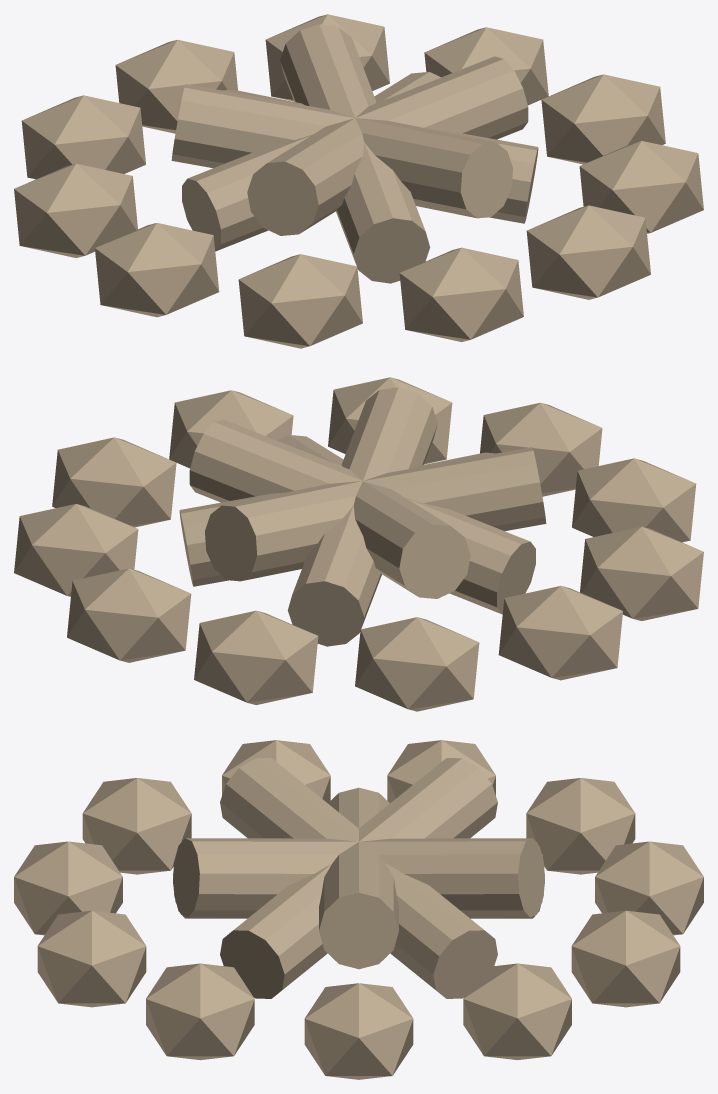
Rendered from campfire-0-lod0.glb.
3 renders of one model, top to bottom at view 1: azimuth 30°, elevation 25°; view 2: azimuth 150°, elevation 25°; view 3: azimuth 270°, elevation 25°, orthographic. The views are drawn at different scales.
Parts seen in each view (by area): view 1: Charred log.004, Charred log, Charred log.003, Charred log.001, Charred log.002, Angular hearth stone.004, Angular hearth stone.002, Angular hearth stone.003, Angular hearth stone.005, Angular hearth stone.006, Angular hearth stone, Angular hearth stone.001 (+4 smaller); view 2: Charred log.001, Charred log, Charred log.002, Charred log.004, Charred log.003, Angular hearth stone.007, Angular hearth stone.009, Angular hearth stone.008, Angular hearth stone.006, Angular hearth stone.005, Angular hearth stone, Angular hearth stone.010 (+4 smaller); view 3: Charred log.002, Charred log.003, Charred log.001, Charred log.004, Charred log, Angular hearth stone.002, Angular hearth stone.009, Angular hearth stone, Angular hearth stone.001, Angular hearth stone.010, Angular hearth stone.004, Angular hearth stone.007 (+4 smaller).
Part boxes in pixels (x1,y1,x2,y2): Charred log.004: (280,24,430,283); Charred log: (182,56,528,251); Charred log.003: (171,84,538,223); Charred log.001: (222,89,512,218); Charred log.002: (247,72,440,235); Angular hearth stone.004: (238,254,362,348); Angular hearth stone.002: (526,205,650,299); Angular hearth stone.003: (399,247,523,341); Angular hearth stone.005: (95,223,219,317); Angular hearth stone.006: (14,163,137,257); Angular hearth stone: (541,74,665,164); Angular hearth stone.001: (579,141,703,233); Charred log.001: (287,387,437,646); Charred log: (189,419,535,614); Charred log.002: (179,447,546,586); Charred log.004: (205,452,495,581); Charred log.003: (277,435,470,598); Angular hearth stone.007: (355,617,479,711); Angular hearth stone.009: (67,568,191,662); Angular hearth stone.008: (194,610,318,704); Angular hearth stone.006: (498,586,622,680); Angular hearth stone.005: (580,526,703,620); Angular hearth stone: (52,437,176,527); Angular hearth stone.010: (14,504,138,596); Charred log.002: (220,758,497,998); Charred log.003: (220,758,497,998); Charred log.001: (173,838,544,918); Charred log.004: (173,838,544,918); Charred log: (319,787,398,969); Angular hearth stone.002: (37,910,146,1007); Angular hearth stone.009: (571,910,680,1007); Angular hearth stone: (304,983,413,1079); Angular hearth stone.001: (146,963,254,1060); Angular hearth stone.010: (463,963,571,1060); Angular hearth stone.004: (82,778,191,874); Angular hearth stone.007: (526,778,635,874).
Bounding box in the file's own units: 1.33 × 0.2842 × 1.29.
